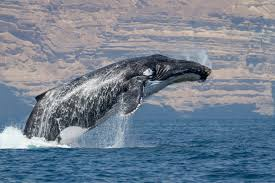humpback: (25, 56, 212, 136)
